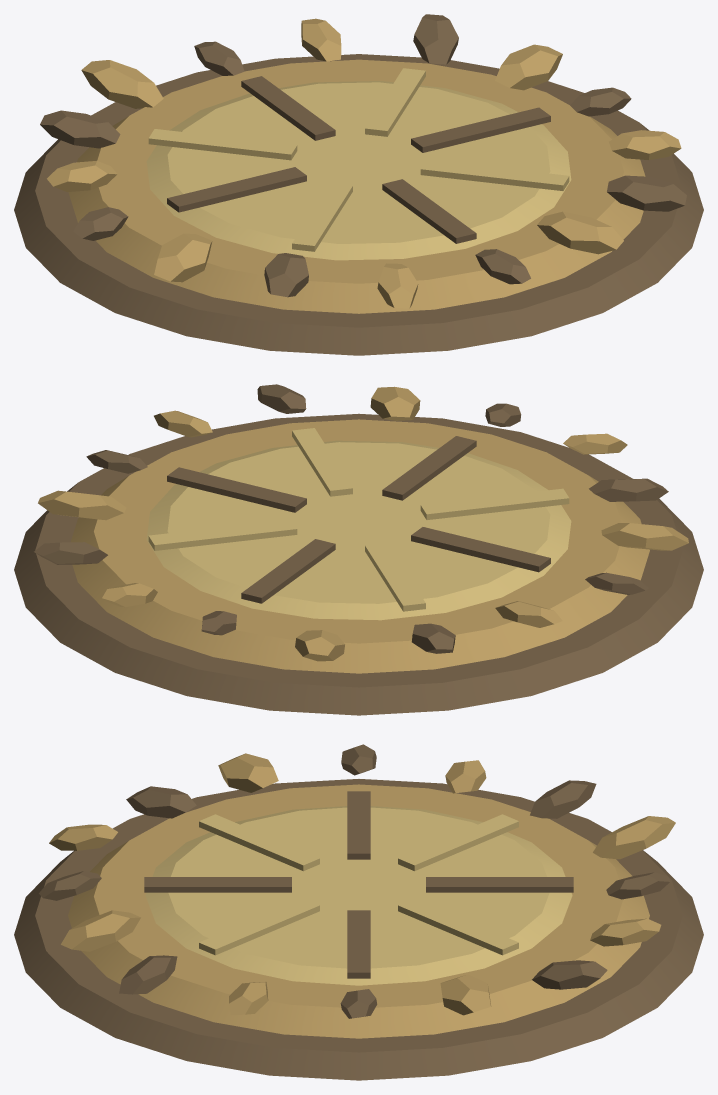
The model's file is sandstone-pad.glb.
The picture shows the model from 3 angles, top to bottom: view 1: azimuth 30°, elevation 25°; view 2: azimuth 150°, elevation 25°; view 3: azimuth 270°, elevation 25°; orthographic projection.
Parts seen in each view (by area): view 1: center_relief_disc, embedded_lower_foundation, worn_upper_foundation, edge_stone_11, radial_inlay_1, radial_inlay_5, edge_stone_3, radial_inlay_0, radial_inlay_4, edge_stone_2, edge_stone_15, edge_stone_10 (+15 smaller); view 2: worn_upper_foundation, center_relief_disc, embedded_lower_foundation, radial_inlay_7, radial_inlay_3, radial_inlay_0, radial_inlay_4, radial_inlay_2, radial_inlay_6, radial_inlay_1, radial_inlay_5, edge_stone_15 (+15 smaller); view 3: center_relief_disc, embedded_lower_foundation, worn_upper_foundation, radial_inlay_2, radial_inlay_6, radial_inlay_1, radial_inlay_7, radial_inlay_3, radial_inlay_5, edge_stone_11, edge_stone_3, edge_stone_7 (+15 smaller).
Part boxes in pixels (x1,y1,x2,y2): center_relief_disc: (146, 81, 571, 260); embedded_lower_foundation: (14, 54, 703, 355); worn_upper_foundation: (68, 59, 645, 313); edge_stone_11: (81, 60, 163, 108); radial_inlay_1: (420, 159, 569, 190); radial_inlay_5: (148, 129, 297, 160); edge_stone_3: (537, 211, 623, 254); radial_inlay_0: (411, 107, 550, 152); radial_inlay_4: (167, 167, 306, 212); edge_stone_2: (607, 175, 686, 211); edge_stone_15: (495, 44, 562, 90); edge_stone_10: (40, 110, 120, 148); worn_upper_foundation: (71, 419, 649, 673); center_relief_disc: (146, 440, 571, 620); embedded_lower_foundation: (14, 413, 703, 715); radial_inlay_7: (148, 519, 297, 550); radial_inlay_3: (420, 488, 569, 519); radial_inlay_0: (167, 467, 306, 512); radial_inlay_4: (411, 527, 550, 572); radial_inlay_2: (382, 436, 476, 500); radial_inlay_6: (241, 539, 335, 603); radial_inlay_1: (292, 428, 352, 496); radial_inlay_5: (365, 543, 425, 611); edge_stone_15: (38, 490, 126, 520); center_relief_disc: (145, 806, 572, 985); embedded_lower_foundation: (14, 779, 703, 1080); worn_upper_foundation: (68, 784, 649, 1038); radial_inlay_2: (144, 877, 291, 892); radial_inlay_6: (426, 877, 573, 892); radial_inlay_1: (199, 898, 319, 955); radial_inlay_7: (398, 898, 518, 955); radial_inlay_3: (199, 814, 319, 871); radial_inlay_5: (398, 814, 518, 871); edge_stone_11: (593, 816, 675, 859); edge_stone_3: (61, 910, 140, 951); edge_stone_7: (218, 753, 278, 792).
Bounding box in the file's own units: 5.88 × 0.5968 × 5.88.
